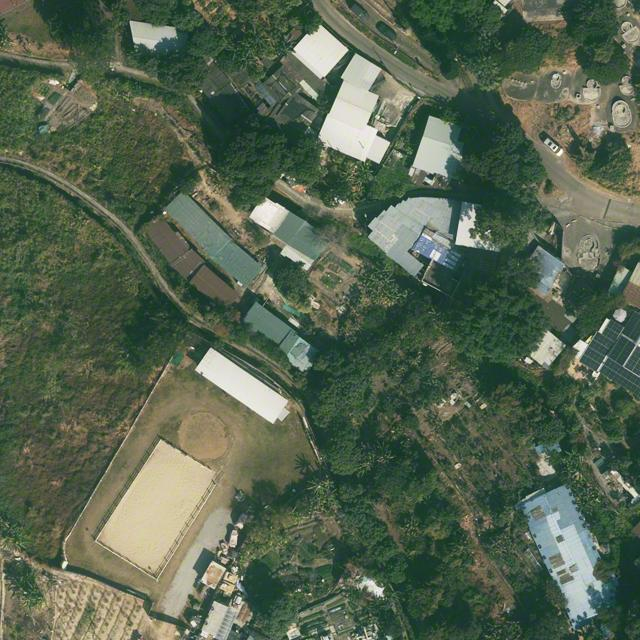panel: (579, 331, 615, 372), (598, 357, 638, 391), (607, 335, 637, 367), (602, 320, 624, 343)
